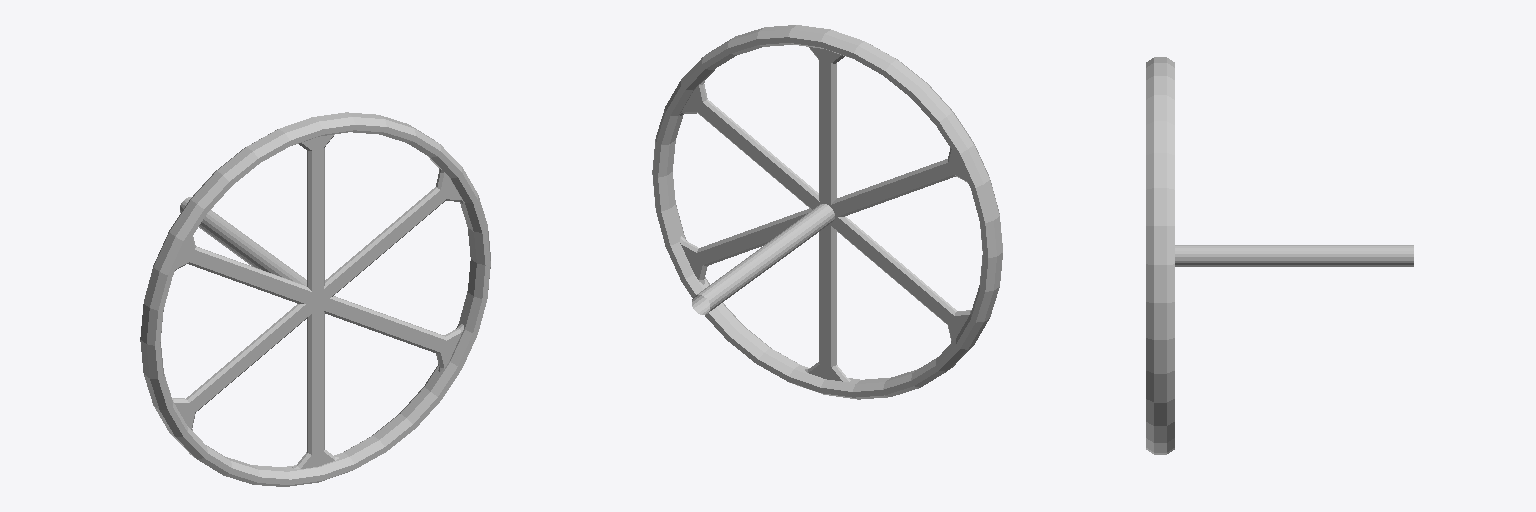
Rendered from SpeedUpgradeA2.obj.
3 views of the same model, side by side, from view 1: azimuth 30°, elevation 25°; view 2: azimuth 150°, elevation 25°; view 3: azimuth 270°, elevation 25° (orthographic).
Visible parts, largest first — view 1: pCylinder19 SpeedUpgradeA_Parts; view 2: pCylinder19 SpeedUpgradeA_Parts; view 3: pCylinder19 SpeedUpgradeA_Parts.
Part boxes in pixels (bbox=[...]): pCylinder19 SpeedUpgradeA_Parts: bbox=[140, 112, 490, 486]; pCylinder19 SpeedUpgradeA_Parts: bbox=[652, 25, 1002, 399]; pCylinder19 SpeedUpgradeA_Parts: bbox=[1146, 57, 1413, 454].
Size of the model in its own units: 0.4354 by 0.4354 by 0.2926.